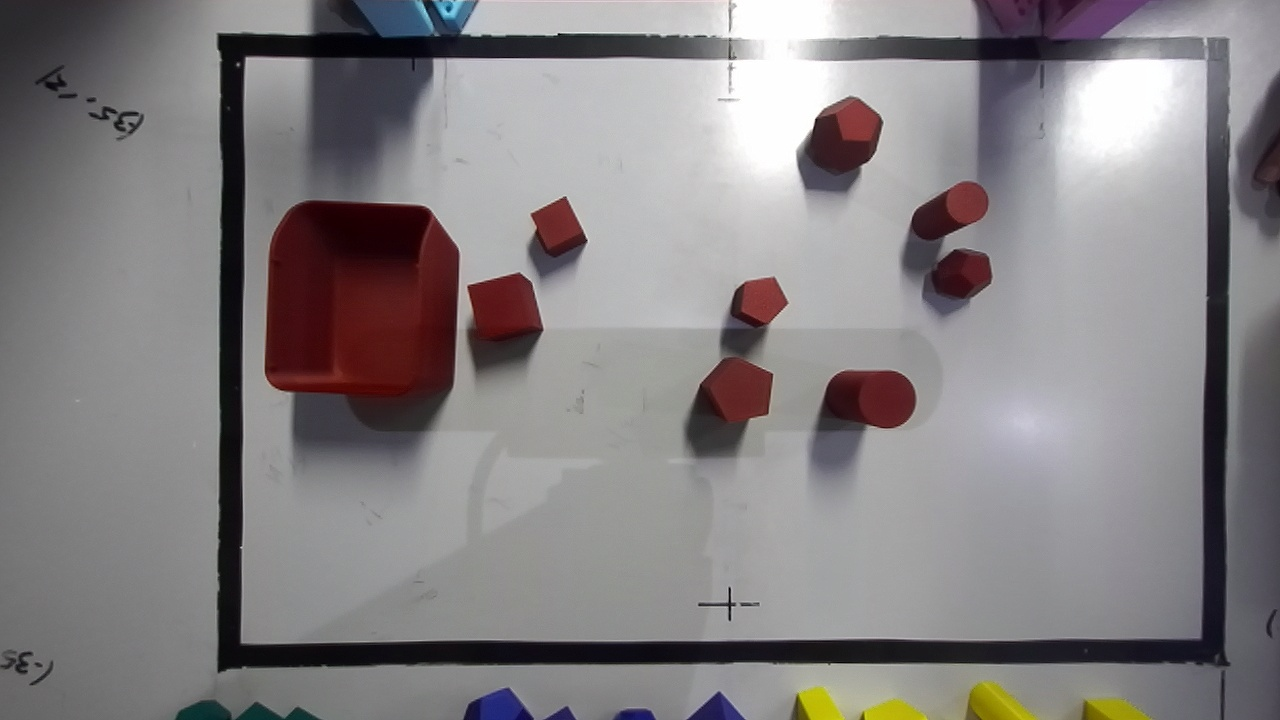bin: (264, 201, 458, 395)
cube: (467, 273, 542, 340), (531, 197, 586, 256)
cylinder: (824, 370, 915, 427), (911, 180, 988, 239)
dodecahedron: (808, 97, 882, 173), (930, 249, 991, 298)
hexagonal: (697, 357, 772, 421), (731, 276, 787, 326)
